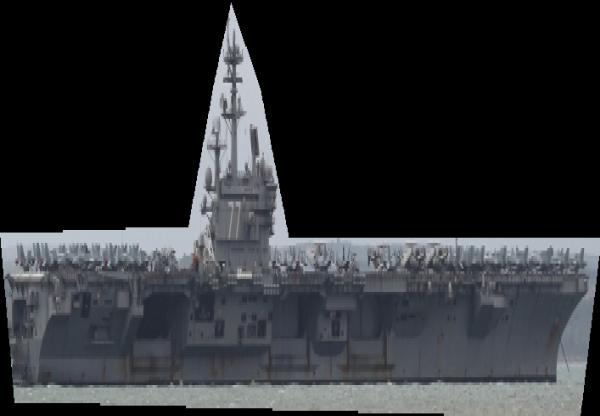Aircraft Carrier: (0, 2, 600, 416)
